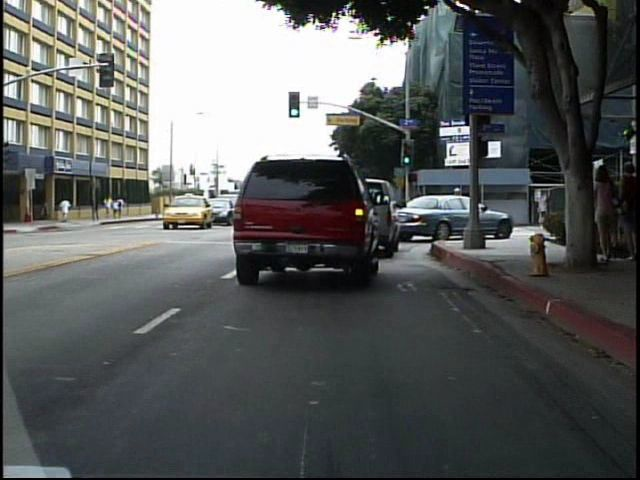person: (592, 168, 623, 267), (613, 166, 638, 264), (450, 185, 467, 229), (59, 194, 74, 226)
